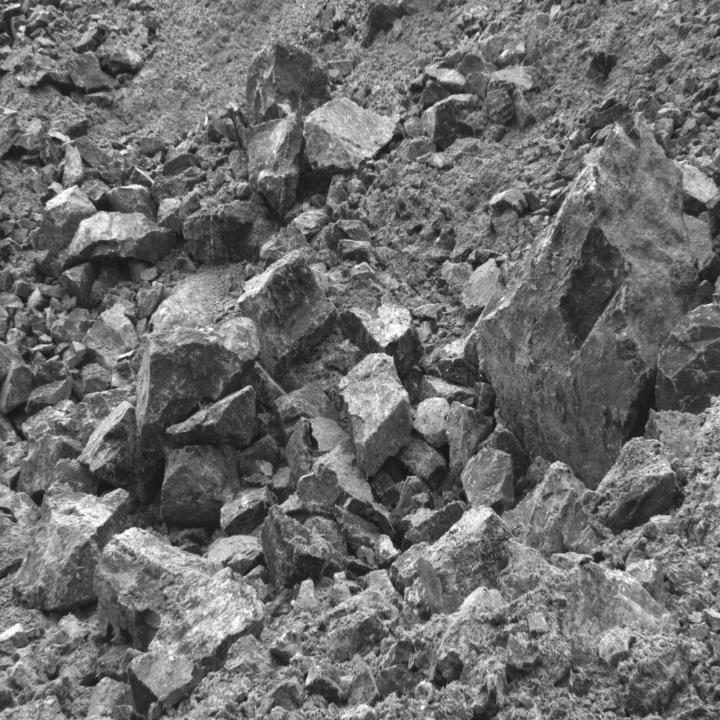stone: (478, 114, 698, 486), (137, 253, 339, 437), (99, 525, 264, 666), (81, 402, 241, 528), (12, 484, 134, 610), (238, 253, 339, 375), (418, 505, 519, 615), (81, 402, 176, 503), (340, 354, 411, 481), (296, 444, 395, 534), (262, 503, 353, 593), (591, 438, 679, 529), (53, 212, 178, 276), (656, 303, 720, 415), (245, 40, 331, 123), (305, 99, 400, 172), (245, 112, 304, 223), (182, 200, 280, 266), (339, 302, 421, 379), (165, 386, 256, 449), (55, 383, 139, 445), (128, 647, 198, 720), (30, 186, 97, 257), (274, 380, 342, 446), (460, 446, 515, 519), (82, 302, 140, 370), (446, 404, 493, 483), (421, 94, 488, 148), (61, 134, 129, 187), (674, 161, 720, 233), (219, 488, 279, 536), (398, 437, 446, 490), (458, 255, 502, 312), (151, 166, 207, 209), (46, 458, 106, 498), (260, 224, 310, 270), (0, 362, 40, 415), (388, 540, 428, 593), (412, 397, 450, 447), (66, 49, 110, 92), (158, 191, 200, 234), (105, 185, 157, 219), (406, 79, 448, 119), (50, 306, 92, 344), (26, 380, 72, 414), (14, 118, 49, 154), (422, 67, 464, 96), (486, 88, 513, 124), (463, 71, 490, 100), (126, 165, 153, 189), (411, 303, 437, 320)
